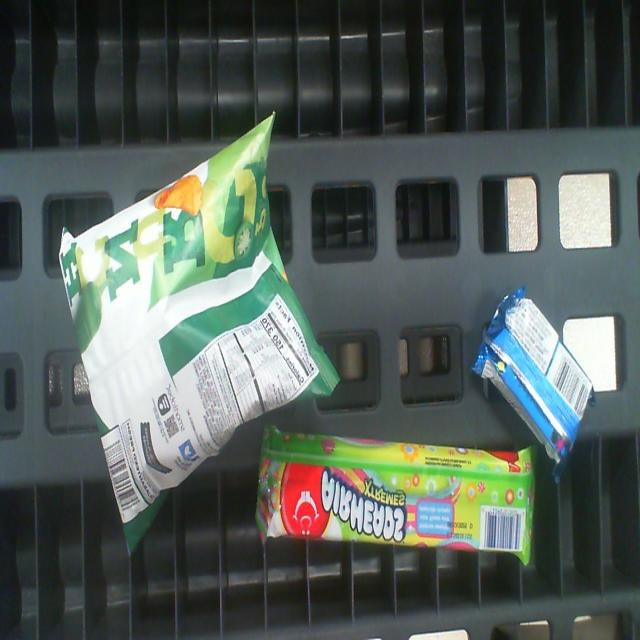snack: (62, 116, 338, 553), (267, 430, 530, 559), (474, 287, 592, 470)
